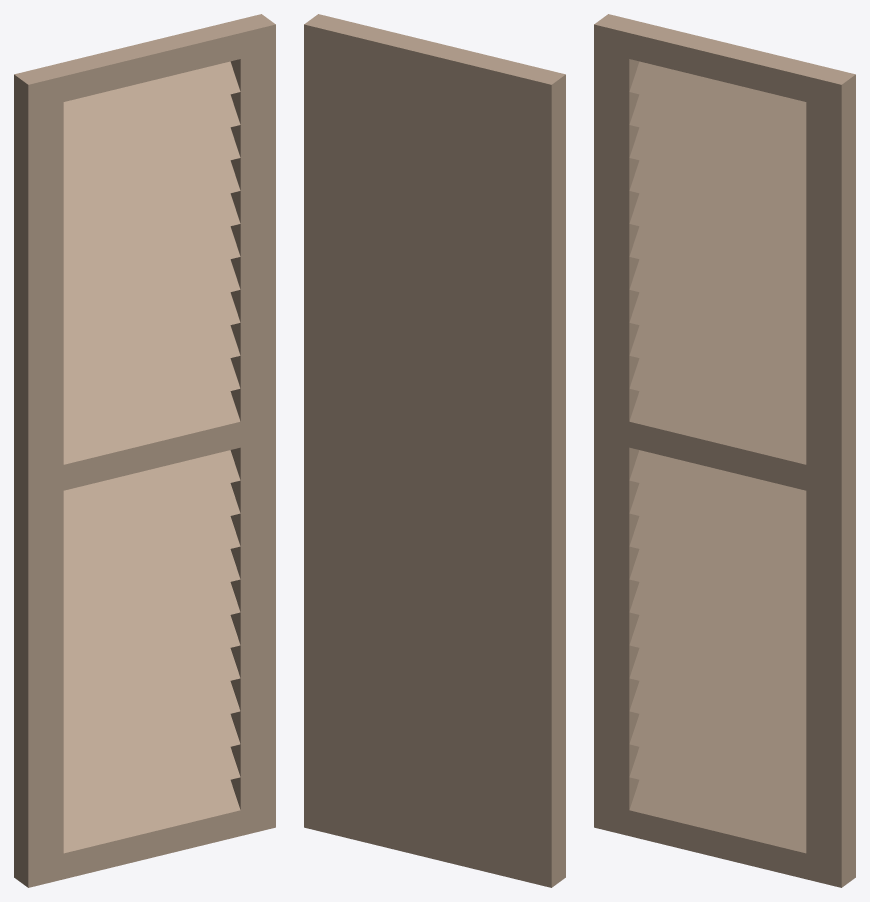
Rendered from Prop_Exterior_Shutter_Louvered.glb.
The picture shows the model from 3 angles, left to right: view 1: azimuth 30°, elevation 25°; view 2: azimuth 150°, elevation 25°; view 3: azimuth 330°, elevation 25°; orthographic projection.
Visible parts, largest first — view 1: Prop_Exterior_Shutter_Louvered; view 2: Prop_Exterior_Shutter_Louvered; view 3: Prop_Exterior_Shutter_Louvered.
Part boxes in pixels (bbox=[...]): Prop_Exterior_Shutter_Louvered: bbox=[14, 14, 275, 887]; Prop_Exterior_Shutter_Louvered: bbox=[304, 14, 565, 887]; Prop_Exterior_Shutter_Louvered: bbox=[594, 14, 855, 887].
Size of the model in its own units: 0.225 by 0.6975 by 0.0225.
